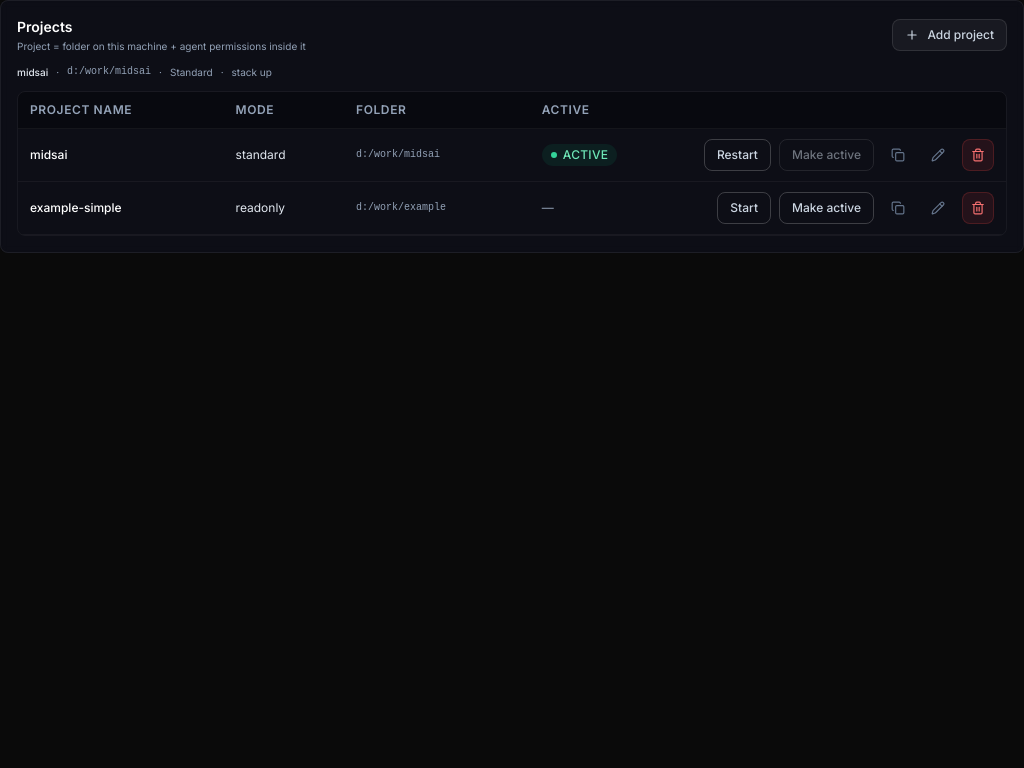
Test: Devbox profile editor › maps project_dir put errors under the folder field when the form is visible
The image size is (1024, 768).
Click the button with test id "devbox-profile-add": click(950, 35) [892,19,1007,51]
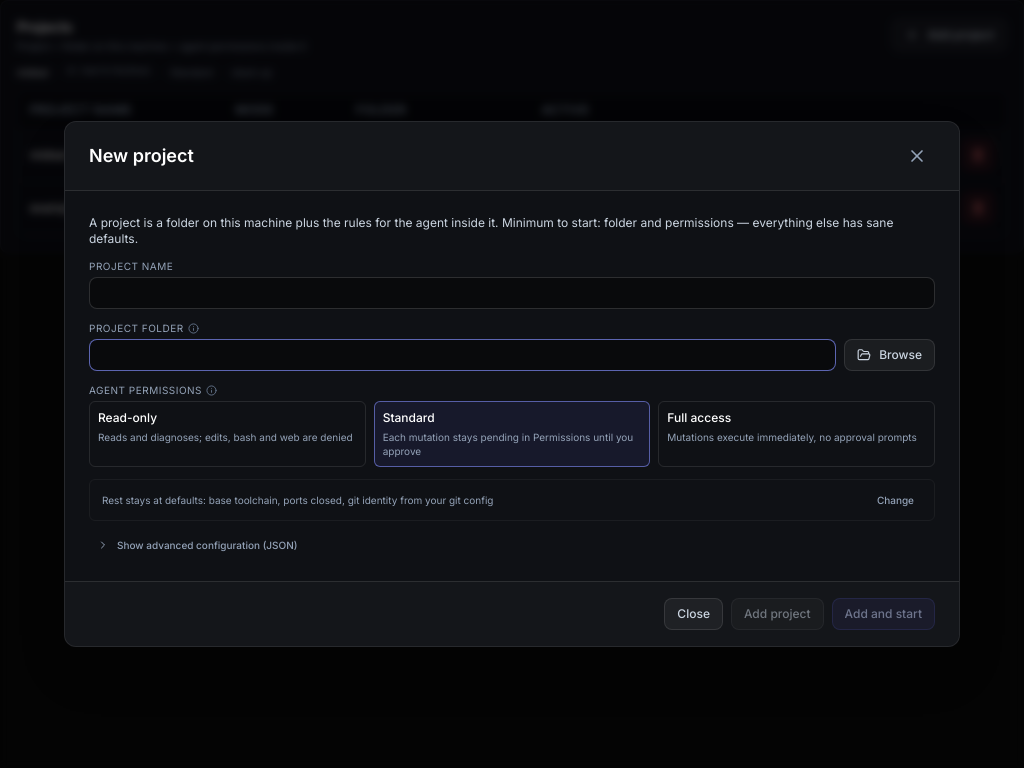
In the field with test id "devbox-profile-field-project_dir": (463, 355) [90,339,835,371], type "d:/work/ghost"
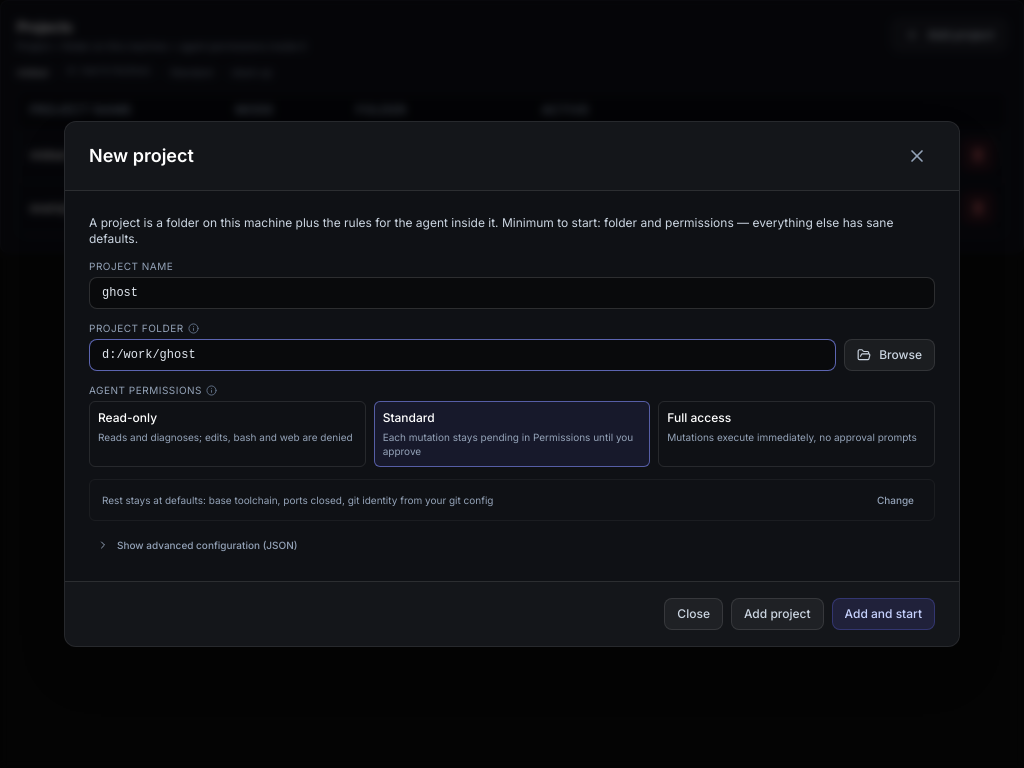
Click the button with test id "devbox-profile-save": click(777, 614) [731,598,824,630]
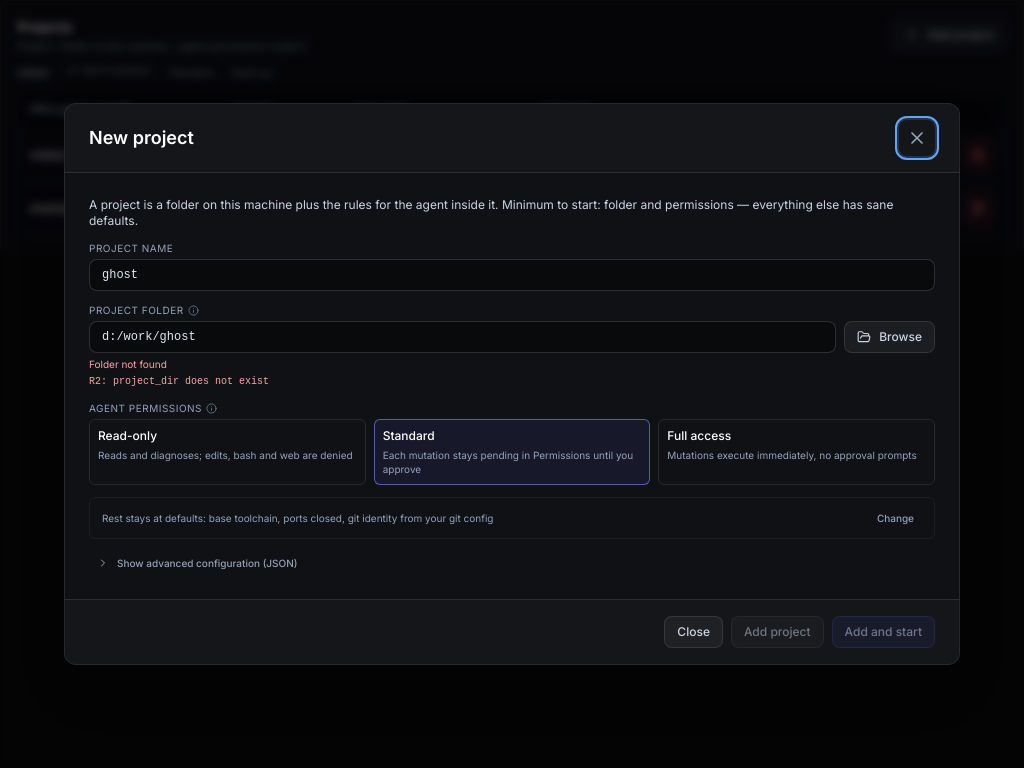
Check: the text "R2: project_dir does not exist" is shown, box [89,376,269,387]
